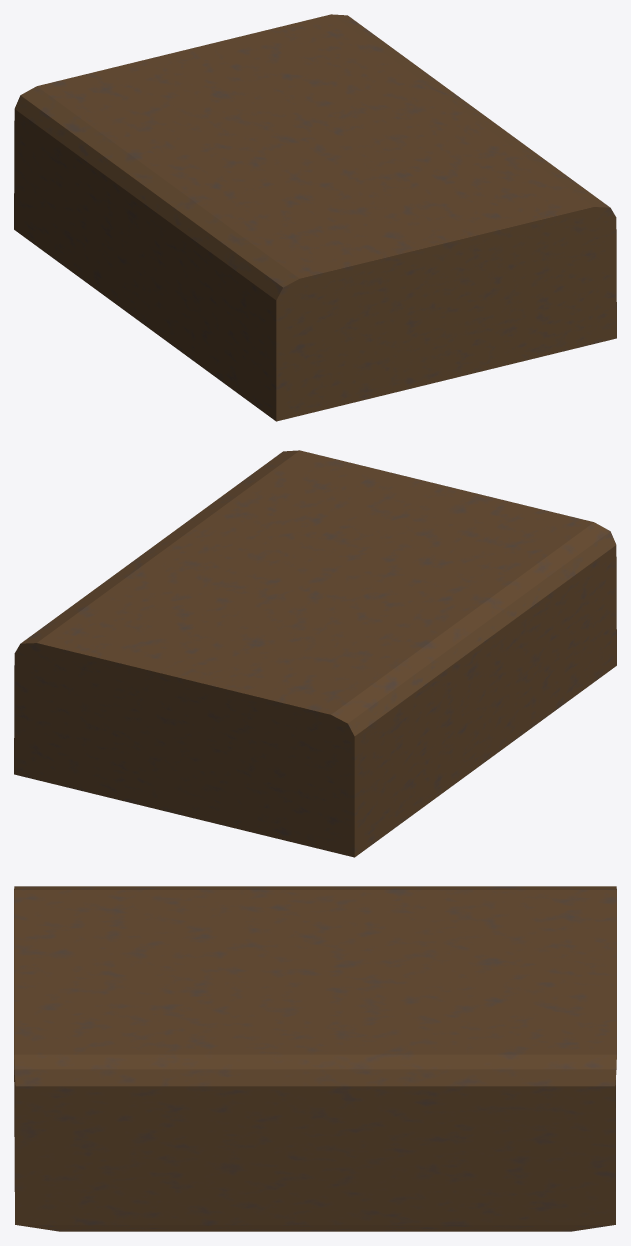
Rendered from DirtPlat(simple).fbx.
3 renders of one model, top to bottom at view 1: azimuth 30°, elevation 25°; view 2: azimuth 150°, elevation 25°; view 3: azimuth 270°, elevation 25°, orthographic. The views are drawn at different scales.
Parts seen in each view (by area): view 1: DirtPlat(simple); view 2: DirtPlat(simple); view 3: DirtPlat(simple).
Part boxes in pixels (x1,y1,x2,y2): DirtPlat(simple): [14, 14, 616, 421]; DirtPlat(simple): [14, 450, 616, 857]; DirtPlat(simple): [14, 886, 616, 1231].
Bounding box in the file's own units: 390 × 191 × 522.
1 material, 1 textured.
